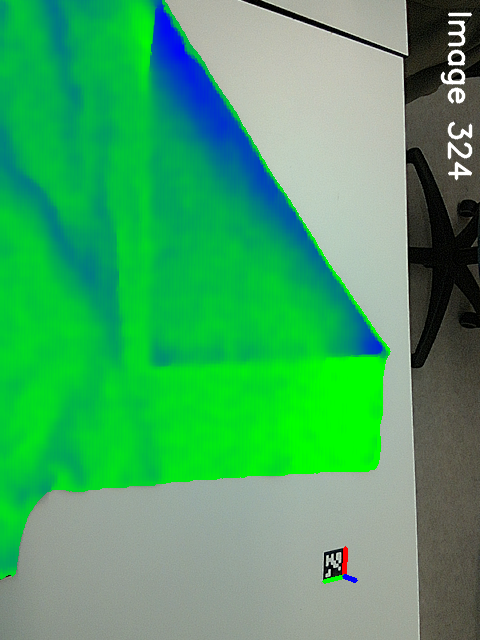V: (136, 317, 196, 377)
